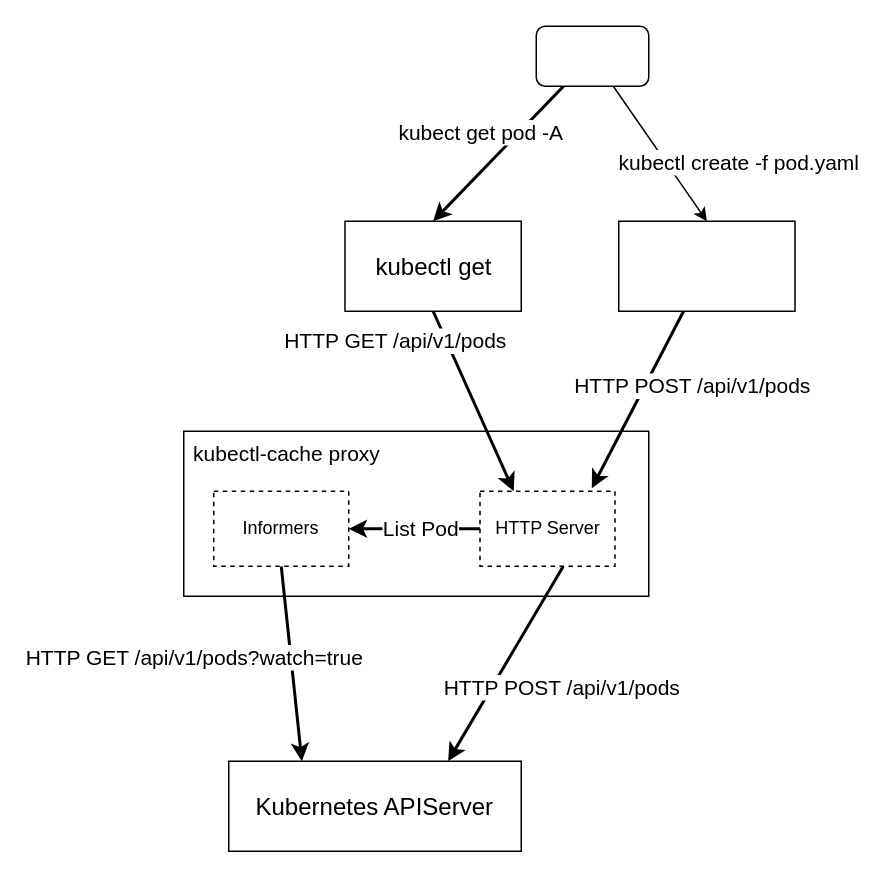
Image size: 885x878. Some labels were removed from this diagram. The centre of each missing label's shape, as x and y in pixels:
"kubectl create" belongs at point (706, 265).
"User" belongs at point (592, 55).
